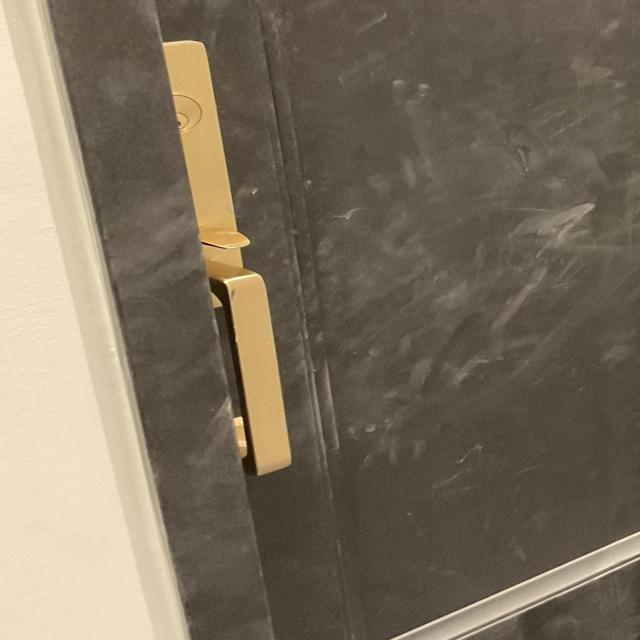door_handle: (192, 256, 303, 482)
